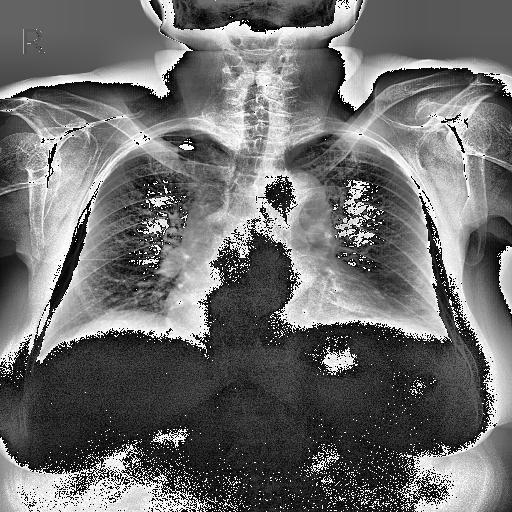0- Aortic enlargement: (260, 170, 334, 238), (254, 171, 330, 235), (260, 169, 332, 229)
3- Cardiomegaly: (167, 283, 399, 357), (168, 268, 384, 316), (162, 281, 392, 323)
